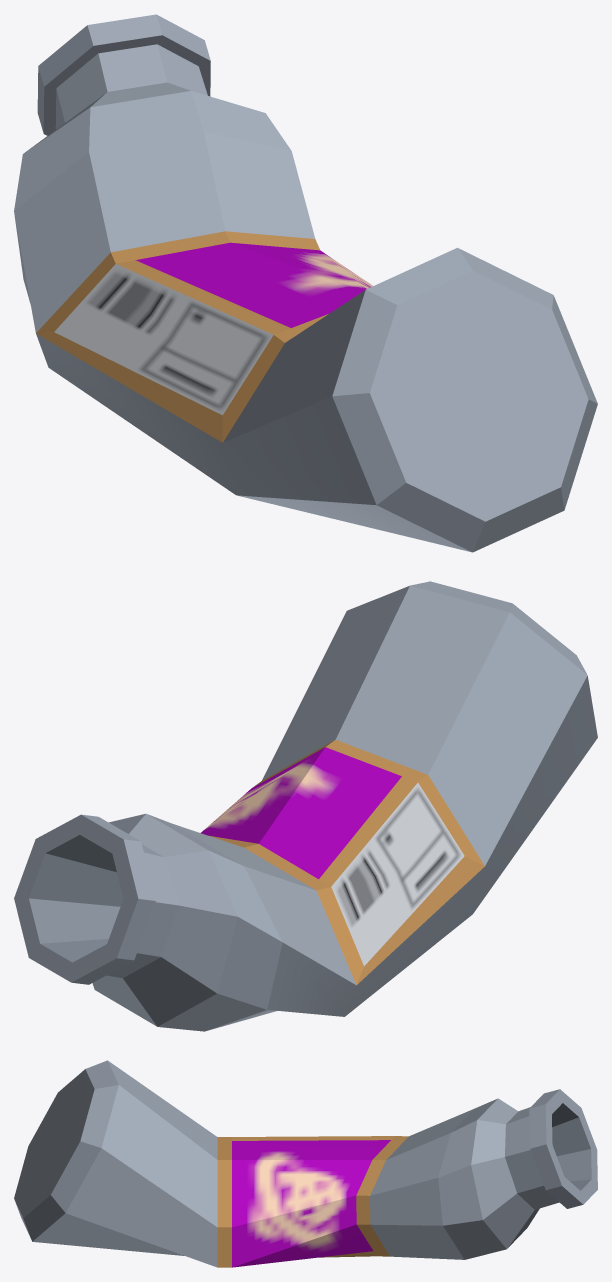
File: SM_Prop_Drink_Syncola_03.fbx
The picture shows the model from 3 angles, top to bottom: view 1: azimuth 30°, elevation 25°; view 2: azimuth 150°, elevation 25°; view 3: azimuth 270°, elevation 25°; orthographic projection. The views are drawn at different scales.
Parts seen in each view (by area): view 1: SM_Prop_Drink_Syncola_03; view 2: SM_Prop_Drink_Syncola_03; view 3: SM_Prop_Drink_Syncola_03.
Part boxes in pixels (bbox=[...]): SM_Prop_Drink_Syncola_03: bbox=[14, 14, 597, 552]; SM_Prop_Drink_Syncola_03: bbox=[14, 581, 597, 1031]; SM_Prop_Drink_Syncola_03: bbox=[14, 1060, 597, 1267].
Bounding box in the file's own units: 12.98 × 12.13 × 36.17.
